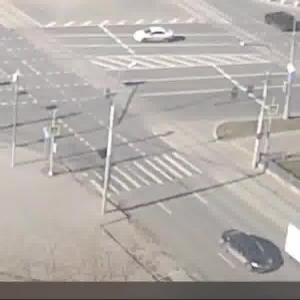car: (219, 225, 276, 276), (129, 25, 178, 47), (265, 10, 300, 38)
